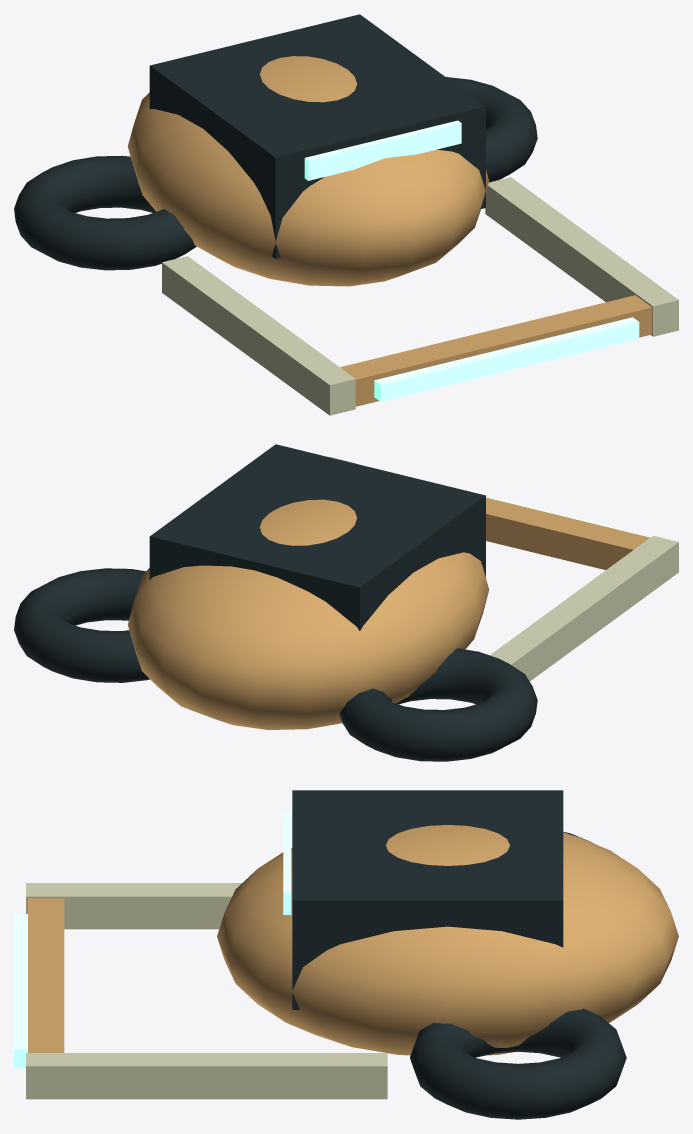
File: magnetic-salvage-tug.glb
3 renders of one model, top to bottom at view 1: azimuth 30°, elevation 25°; view 2: azimuth 150°, elevation 25°; view 3: azimuth 270°, elevation 25°, orthographic. The views are drawn at different scales.
Parts seen in each view (by area): view 1: Body, Cab, Fork (×2), Magnetic_salvage_tug, Magnet_bar, Magnet_light, Eyes; view 2: Body, Cab, Magnetic_salvage_tug, Fork, Magnet_bar; view 3: Body, Cab, Fork (×2), Magnetic_salvage_tug, Magnet_bar, Magnet_light, Eyes.
Part boxes in pixels (x1,y1,x2,y2): Body: [127, 56, 489, 286]; Cab: [149, 14, 485, 258]; Fork (×2): [162, 177, 678, 415]; Magnetic_salvage_tug: [14, 77, 537, 270]; Magnet_bar: [340, 295, 652, 406]; Magnet_light: [374, 317, 639, 401]; Eyes: [304, 120, 461, 180]; Body: [127, 499, 488, 729]; Cab: [149, 444, 485, 630]; Magnetic_salvage_tug: [14, 568, 537, 761]; Fork: [490, 535, 678, 681]; Magnet_bar: [486, 497, 649, 569]; Body: [217, 825, 678, 1055]; Cab: [292, 790, 563, 1009]; Fork (×2): [26, 883, 387, 1099]; Magnetic_salvage_tug: [410, 832, 626, 1119]; Magnet_bar: [28, 898, 64, 1052]; Magnet_light: [14, 914, 27, 1068]; Eyes: [283, 812, 291, 914].
Bounding box in the file's own units: 3.08 × 1.04 × 3.31.
